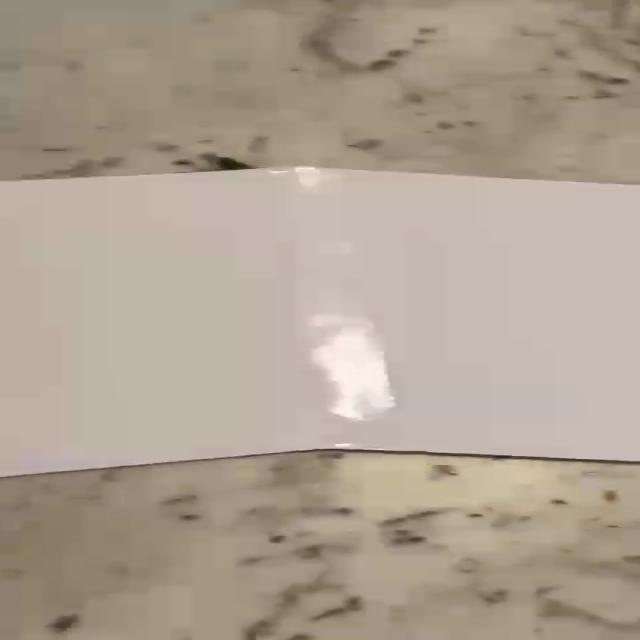road: (0, 167, 640, 476)
